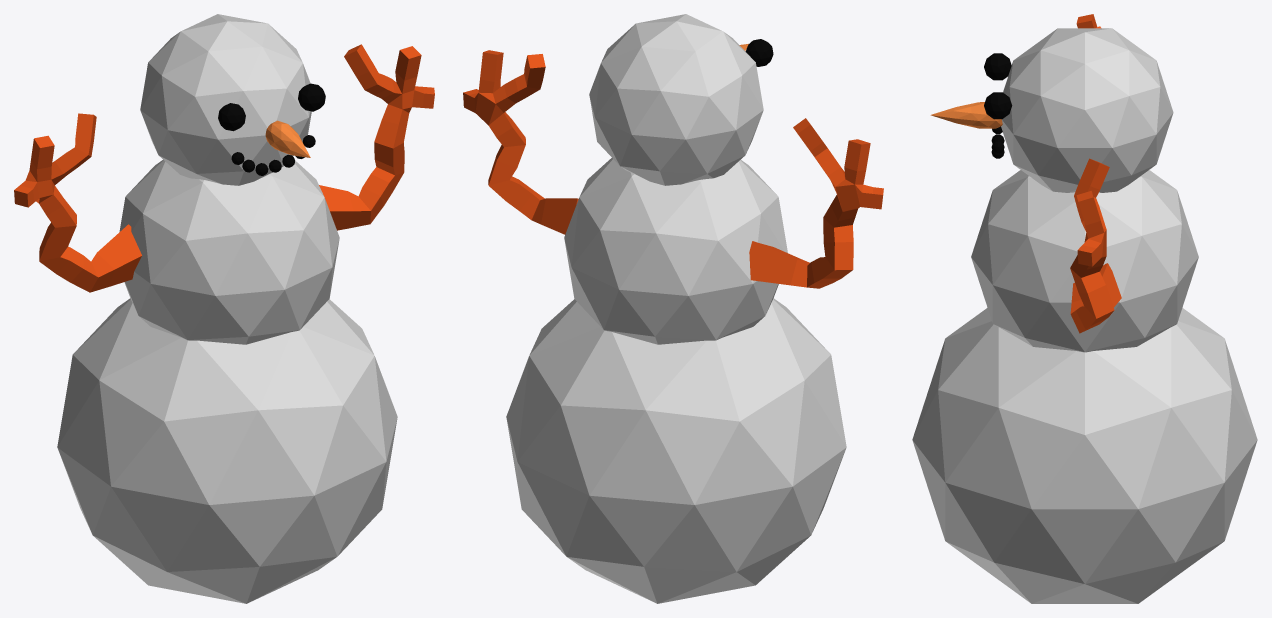
File: frosty.fbx
The picture shows the model from 3 angles, left to right: view 1: azimuth 30°, elevation 25°; view 2: azimuth 150°, elevation 25°; view 3: azimuth 270°, elevation 25°; orthographic projection.
Visible parts, largest first — view 1: Icosphere, Icosphere.001, Icosphere.002, Plane, Icosphere.012, Icosphere.004, Icosphere.003; view 2: Icosphere, Icosphere.001, Icosphere.002, Plane, Icosphere.003; view 3: Icosphere, Icosphere.001, Icosphere.002, Plane, Icosphere.012, Icosphere.004, Icosphere.003.
Boxes of the visible parts, box(x1,y1,x2,y2) form: Icosphere: box(57, 298, 397, 603); Icosphere.001: box(119, 160, 339, 344); Icosphere.002: box(140, 14, 311, 185); Plane: box(14, 44, 434, 292); Icosphere.012: box(265, 120, 310, 157); Icosphere.004: box(298, 83, 325, 111); Icosphere.003: box(218, 103, 245, 131); Icosphere: box(506, 298, 846, 603); Icosphere.001: box(564, 158, 787, 344); Icosphere.002: box(589, 14, 763, 185); Plane: box(463, 50, 883, 288); Icosphere.003: box(745, 39, 773, 66); Icosphere: box(912, 308, 1257, 603); Icosphere.001: box(971, 170, 1198, 352); Icosphere.002: box(1001, 28, 1173, 192); Plane: box(1070, 14, 1121, 333); Icosphere.012: box(930, 102, 1002, 128); Icosphere.004: box(984, 92, 1012, 119); Icosphere.003: box(984, 53, 1011, 80).
Size of the model in its own units: 79.26 by 102 by 56.85.
